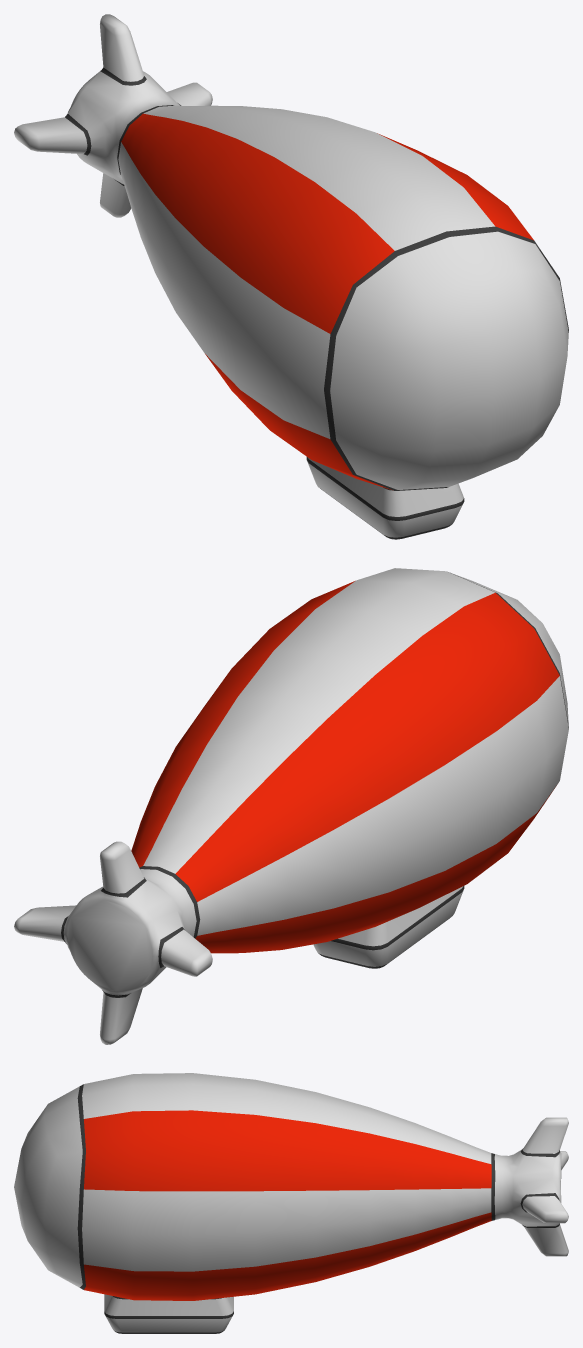
The model's file is airvehicle.glb.
3 views of the same model, one above another, from view 1: azimuth 30°, elevation 25°; view 2: azimuth 150°, elevation 25°; view 3: azimuth 270°, elevation 25° (orthographic). The views are drawn at different scales.
Visible parts, largest first — view 1: Zeppelin; view 2: Zeppelin; view 3: Zeppelin.
Part boxes in pixels (box(x1,y1,x2,y2)): Zeppelin: box(14, 14, 568, 539); Zeppelin: box(14, 568, 568, 1044); Zeppelin: box(14, 1073, 568, 1333).
Size of the model in its own units: 1.5 by 1.74 by 3.67.
